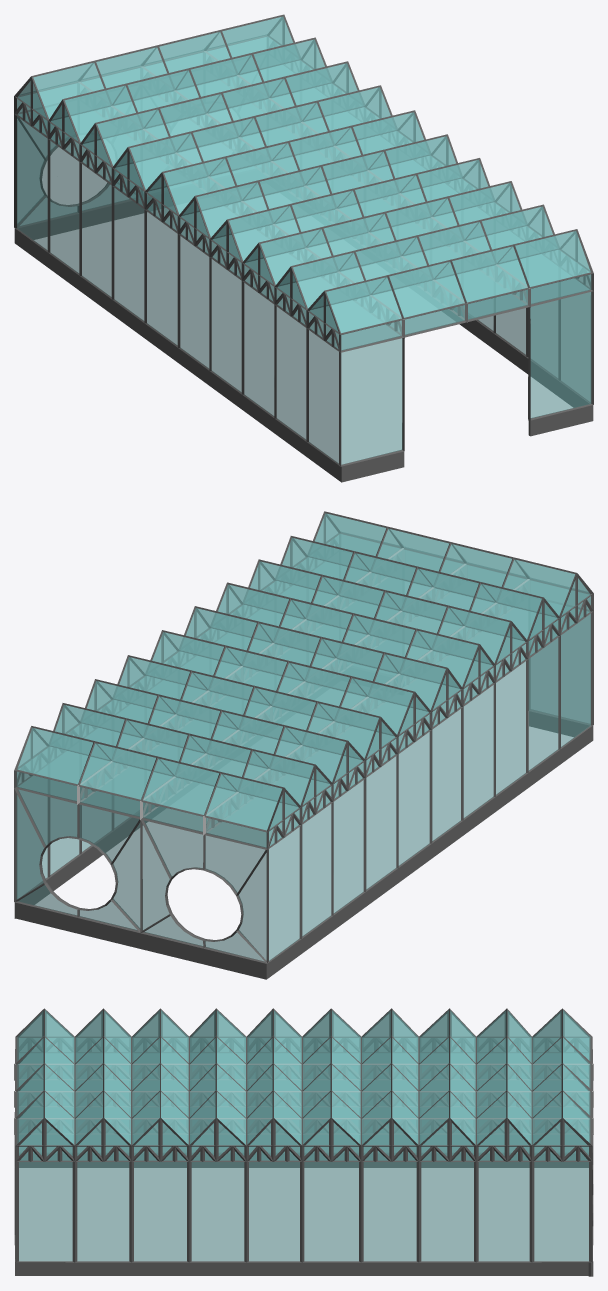
File: Greenhouse.obj
The picture shows the model from 3 angles, top to bottom: view 1: azimuth 30°, elevation 25°; view 2: azimuth 150°, elevation 25°; view 3: azimuth 270°, elevation 25°; orthographic projection. The views are drawn at different scales.
Visible parts, largest first — view 1: house; view 2: house; view 3: house.
Boxes of the visible parts, x1=… form: house: x1=14, y1=14, x2=593, y2=482; house: x1=14, y1=511, x2=593, y2=979; house: x1=14, y1=1008, x2=593, y2=1276.
Bounding box in the file's own units: 3.14 × 2.13 × 7.02.
